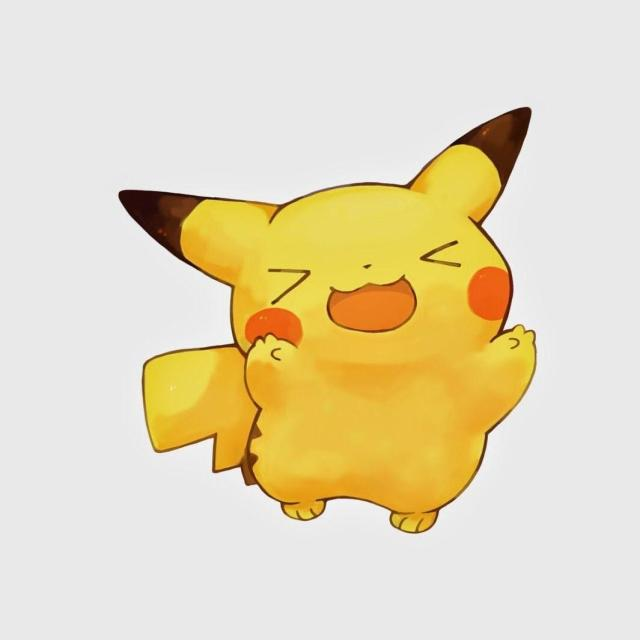pikachu: (119, 107, 537, 533)
